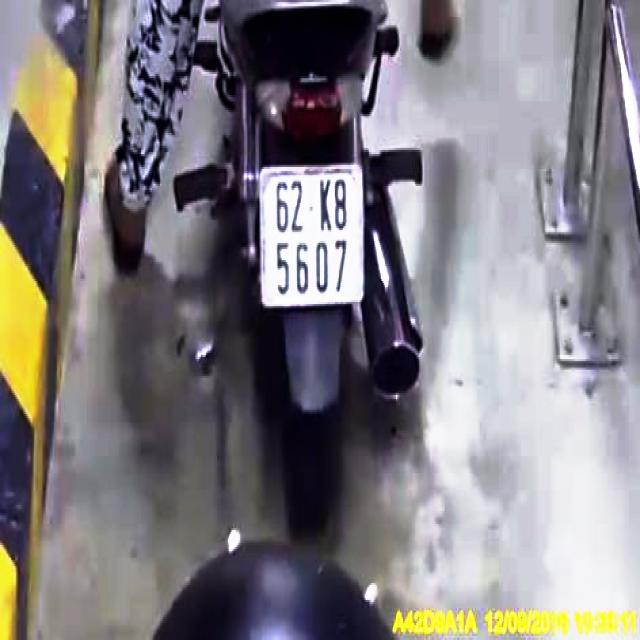license_plate: (261, 169, 366, 306)
